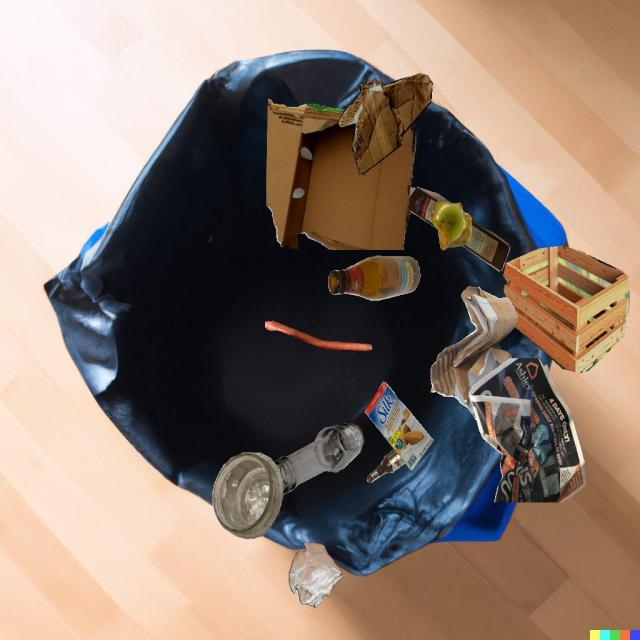biowaste: (265, 321, 372, 351), (430, 201, 472, 250)
cardboard: (266, 99, 416, 250), (431, 287, 518, 419), (338, 73, 433, 175), (364, 382, 433, 471), (463, 218, 510, 271), (409, 187, 452, 212)
combustible waste: (503, 246, 630, 373)
glass: (274, 423, 364, 494), (212, 452, 283, 539), (328, 256, 420, 300), (367, 449, 405, 483)
paper: (469, 358, 586, 502), (289, 542, 343, 608)
